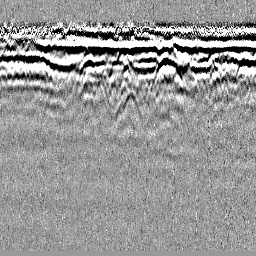cavity: (112, 90, 143, 122)
